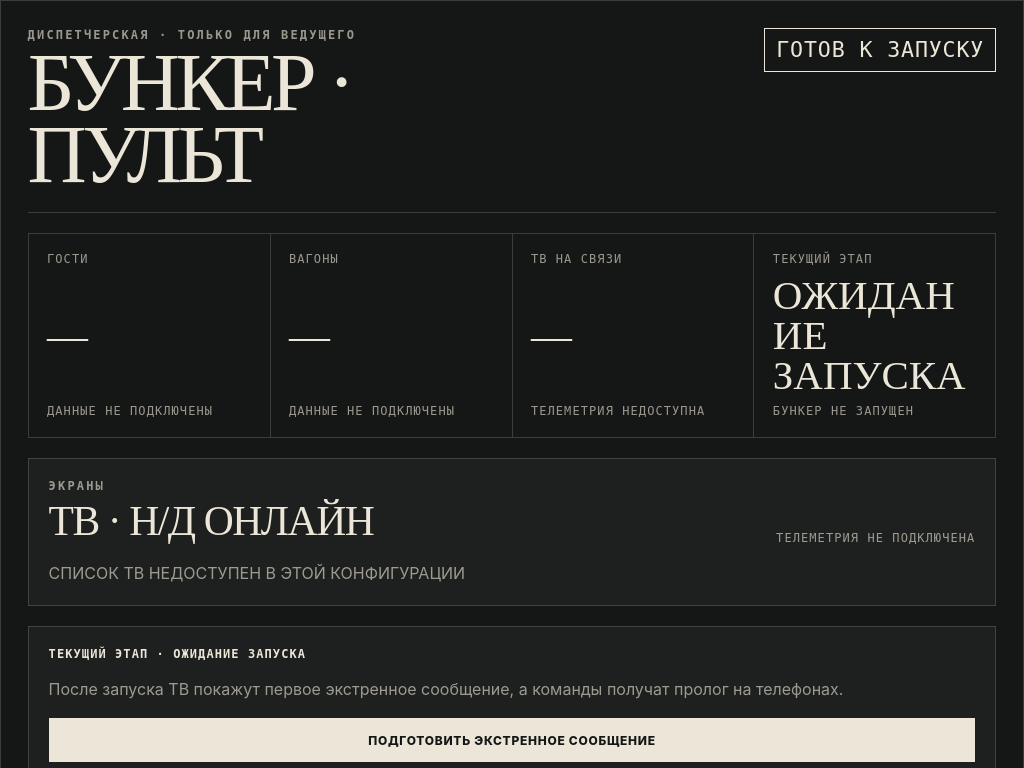
Test: AdminBunkerControl › does not activate or broadcast when preparation fails
Click the button "ПОДГОТОВИТЬ ЭКСТРЕННОЕ СООБЩЕНИЕ".
click(512, 740)  # box [49,718,975,762]
(page scrolled)
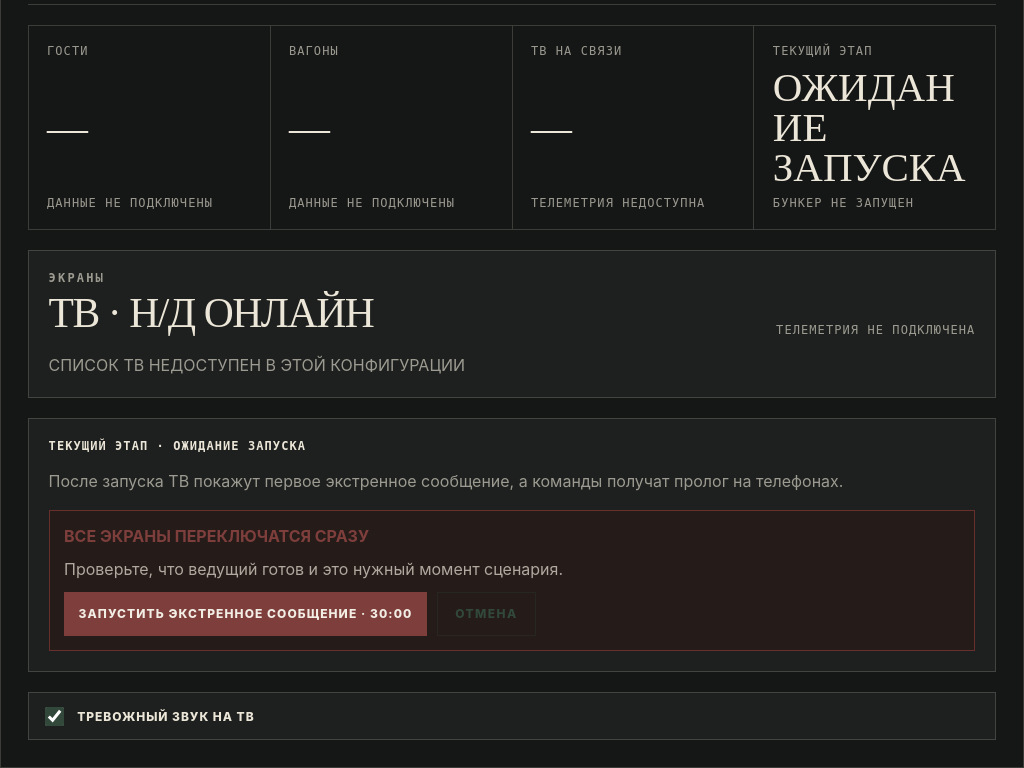
Click the button "ЗАПУСТИТЬ ЭКСТРЕННОЕ СООБЩЕНИЕ · 30:00".
click(246, 614)  # box [64,592,427,636]
(page scrolled)
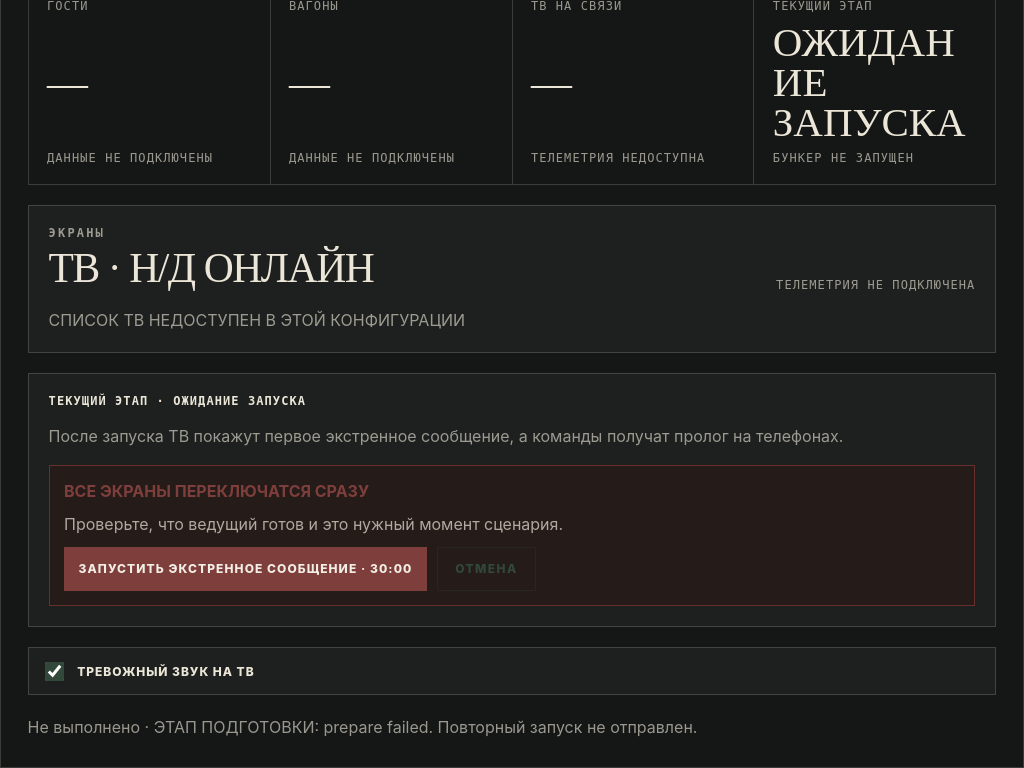
Check: the text "Не выполнено · ЭТАП ПОДГОТОВКИ: prepare failed. Повторный запуск не отправлен." is shown, box [28,717,697,737]
